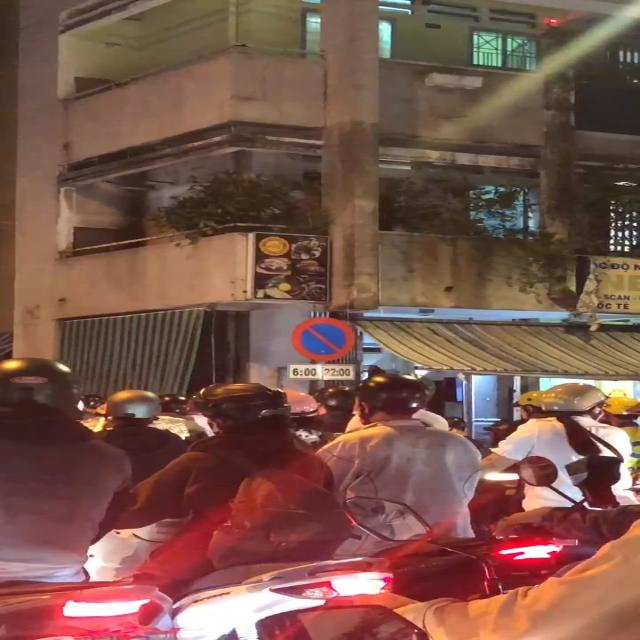Bien bao cam do xe: (286, 313, 361, 361)
